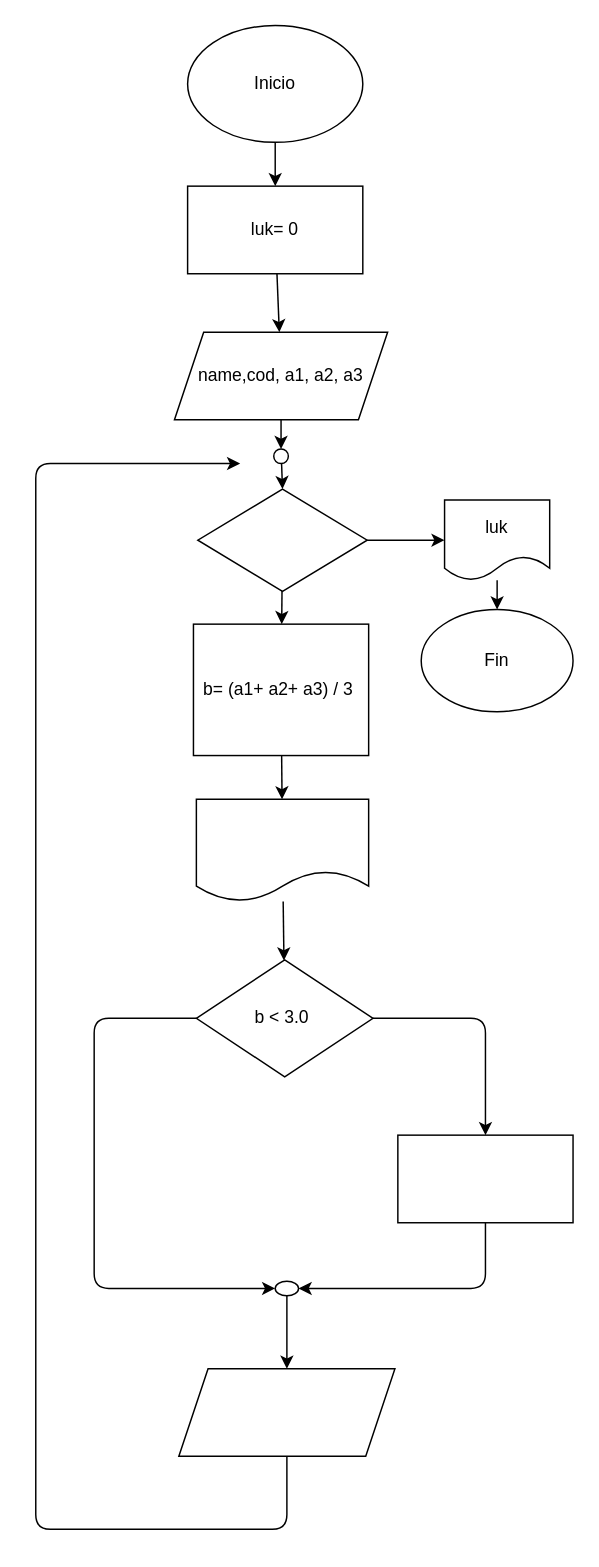
Some shapes in this 599 by 1567 pixel diagram are drawn without their labels. The shapes that lost their labels are listed below. From the top down, each one's centre as x and y in pixels, then its label:
[281,539]: cod != 0
[282,850]: cod, name, b
[484,1178]: luk= luk + 1
[286,1411]: cod, name, a1, a2, a3
